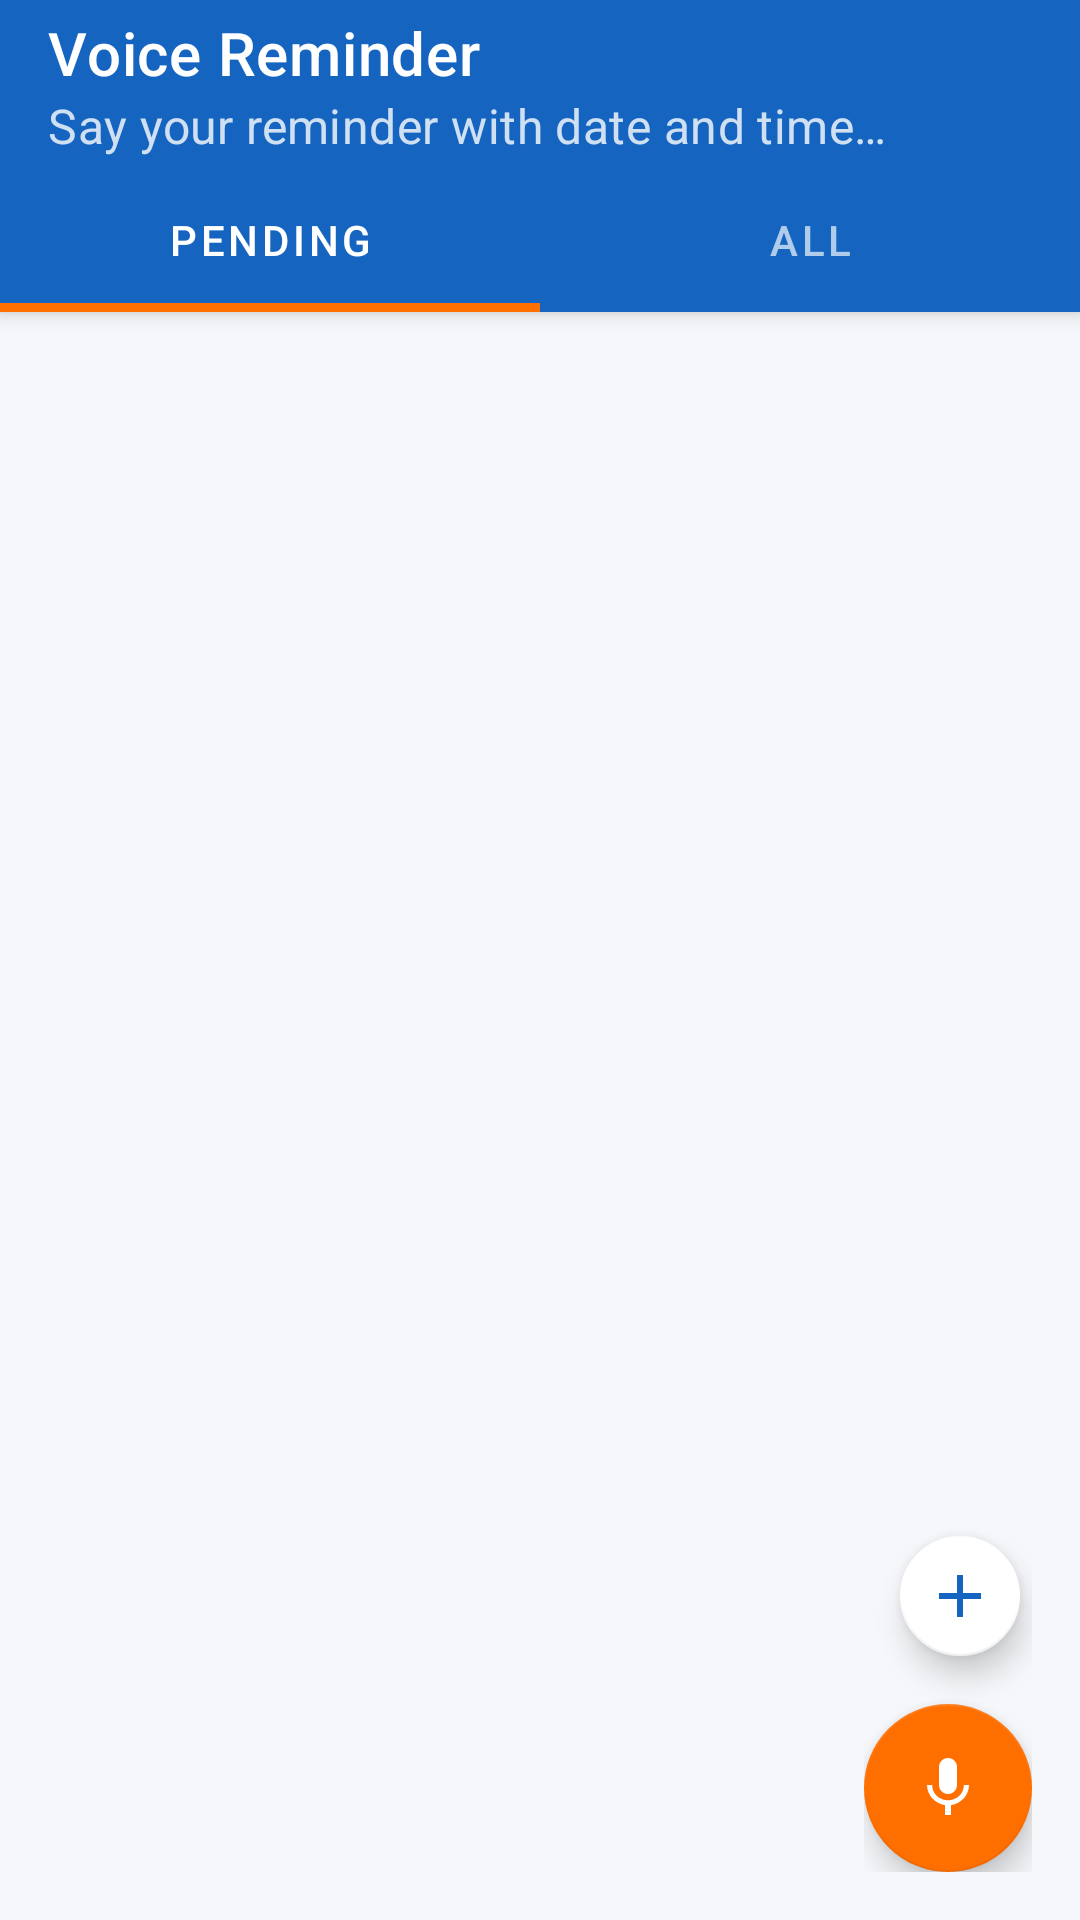

Screen size 1080*1920. Icon name, then its box in pixels as box=[x1, y1, x2, y2]:
New Reminder: box=[895, 1535, 1032, 1668]
Say your reminder with date and time…: box=[864, 1704, 1032, 1872]
